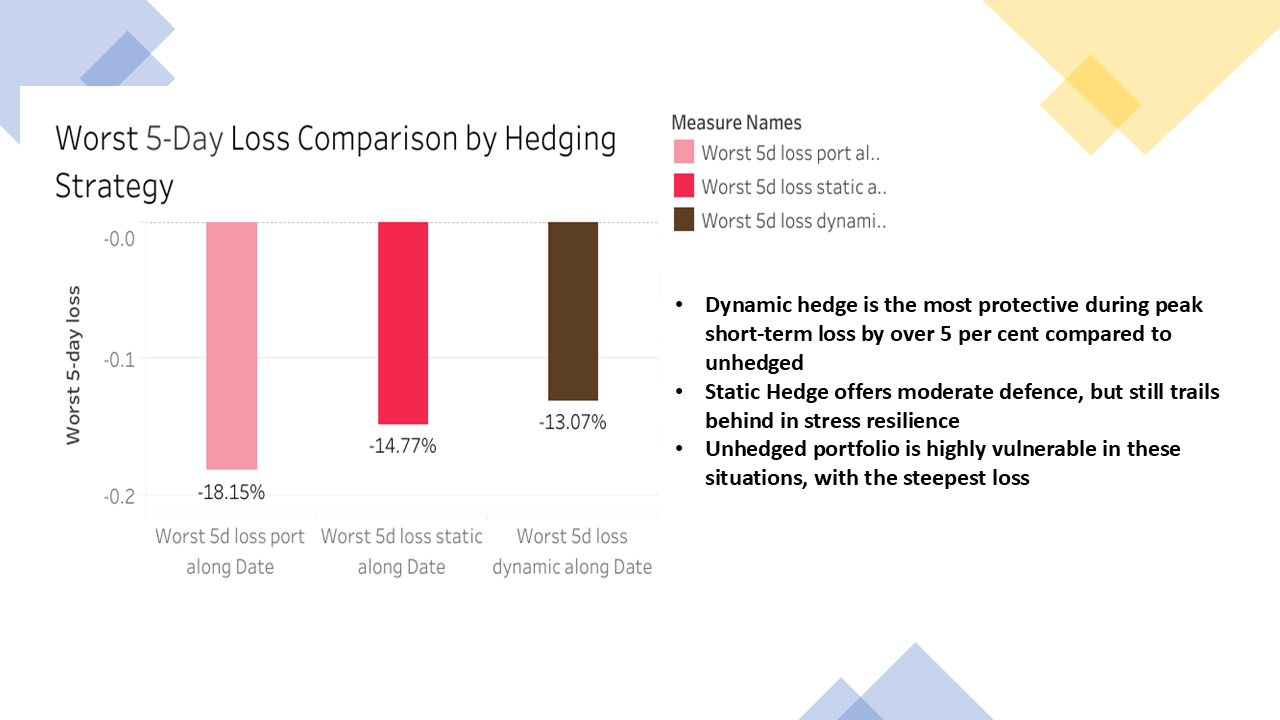

The page's visual inventory and layout, read from the dashboard file:
{"tool":"tableau","page":{"name":"Worst 5-Day","canvas":[1000,1000],"units":"permille","ordinal":8},"visuals":[{"type":"worksheet","title":"5-Day","mark":"Bar","box":[5,10.7,890.3,978.6]},{"type":"legend","title":"5-Day","param":"[federated.0bg4tcu033rbq71aozf0k10hee3w].[:Measure Names]","box":[895.3,10.7,99.8,146.1]}]}

Visuals, with their boxes on the dashboard's canvas, which has no fixed pixel size, in thousandths of its width and height (x1, y1, x2, y2). These are canvas units, not pixel positions in the 1280x720 screenshot, which may show the page scaled, cropped or inside an application window:
"5-Day" worksheet (Bar marks): x1=5 y1=11 x2=895 y2=989
"5-Day" legend: x1=895 y1=11 x2=995 y2=157
